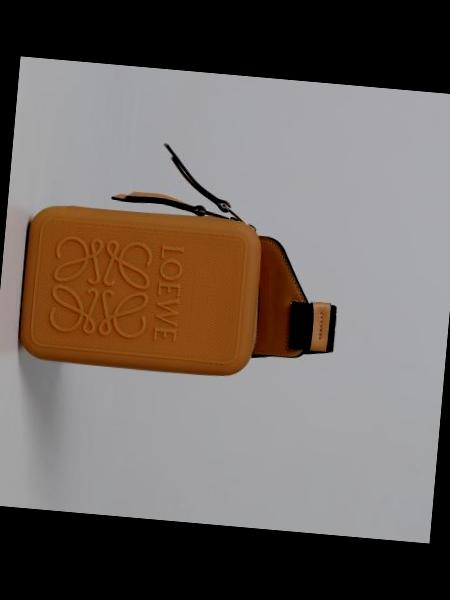LOEWE: (37, 233, 156, 348)
